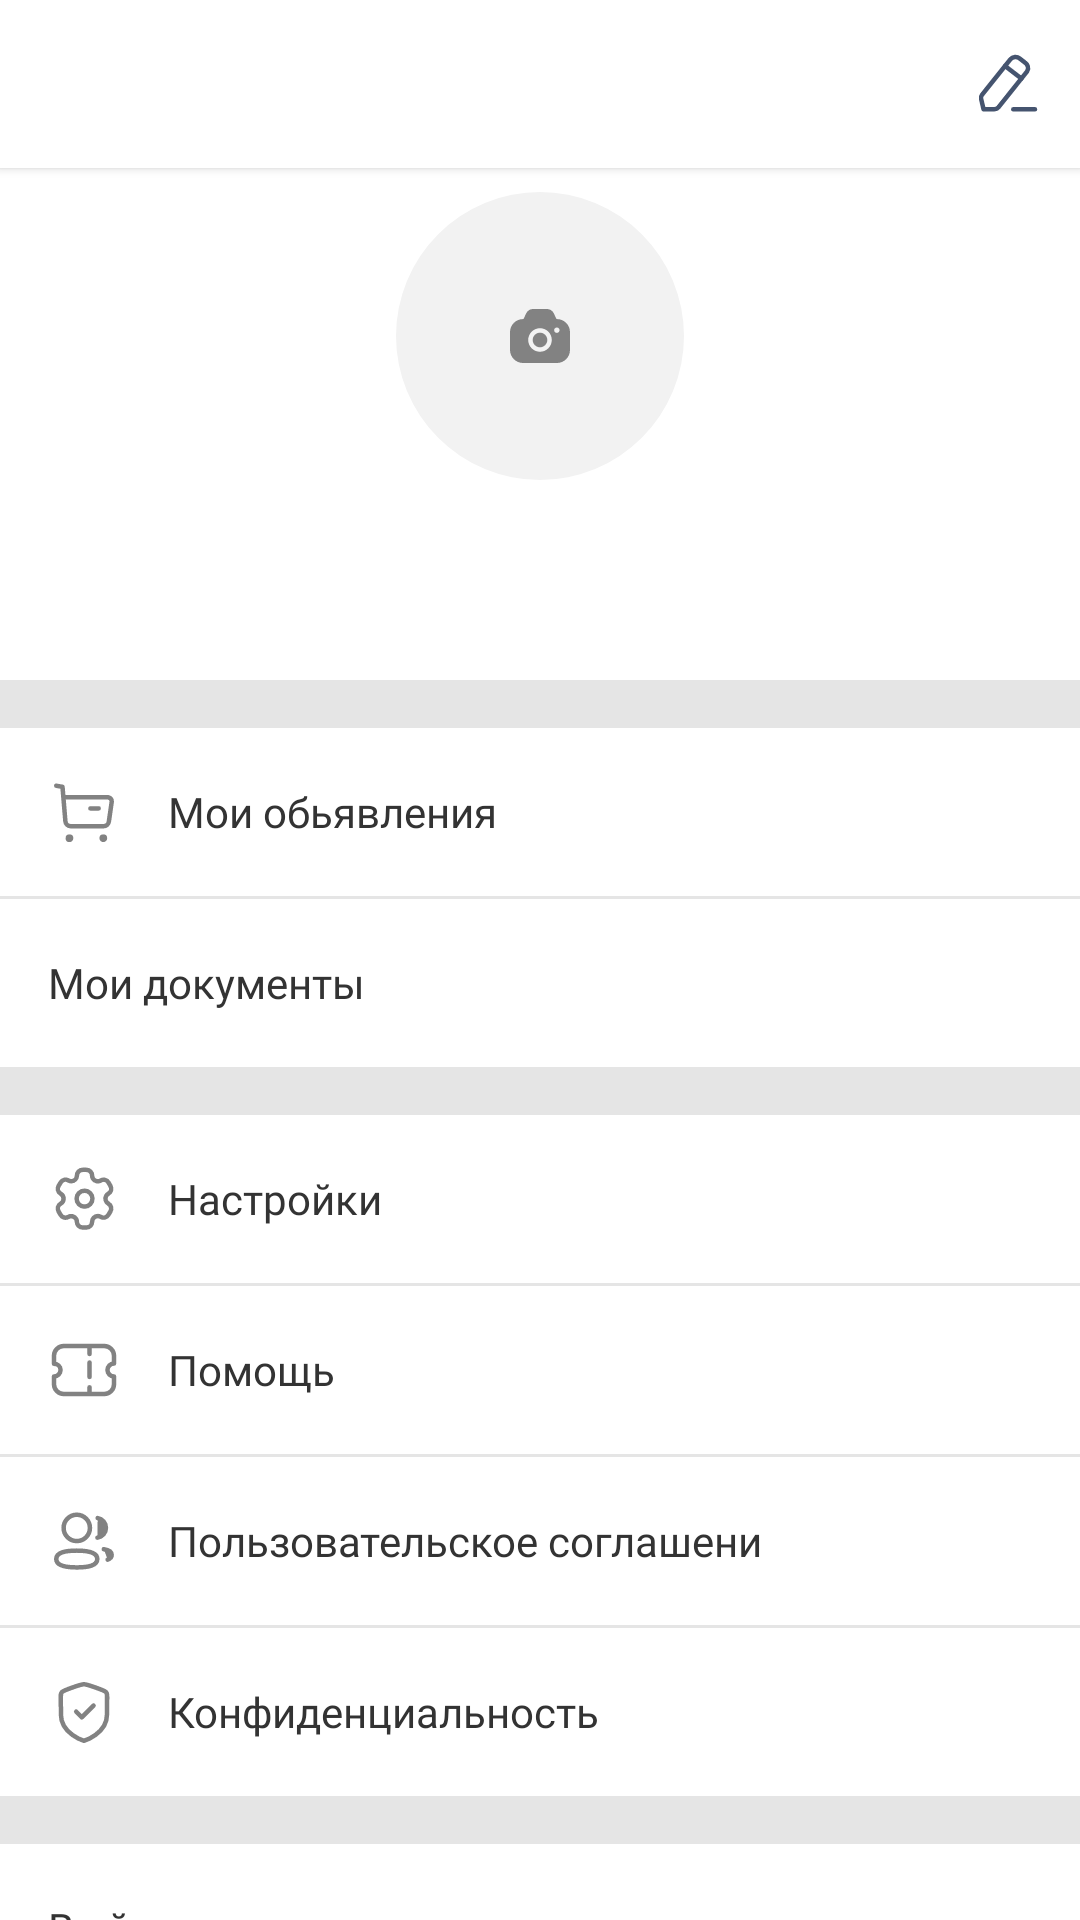

Named icons in this screenshot (1080w x 1920h) and their bounding boxes, rect(x1, y1, x2, y2):
camera: rect(510, 309, 570, 363)
